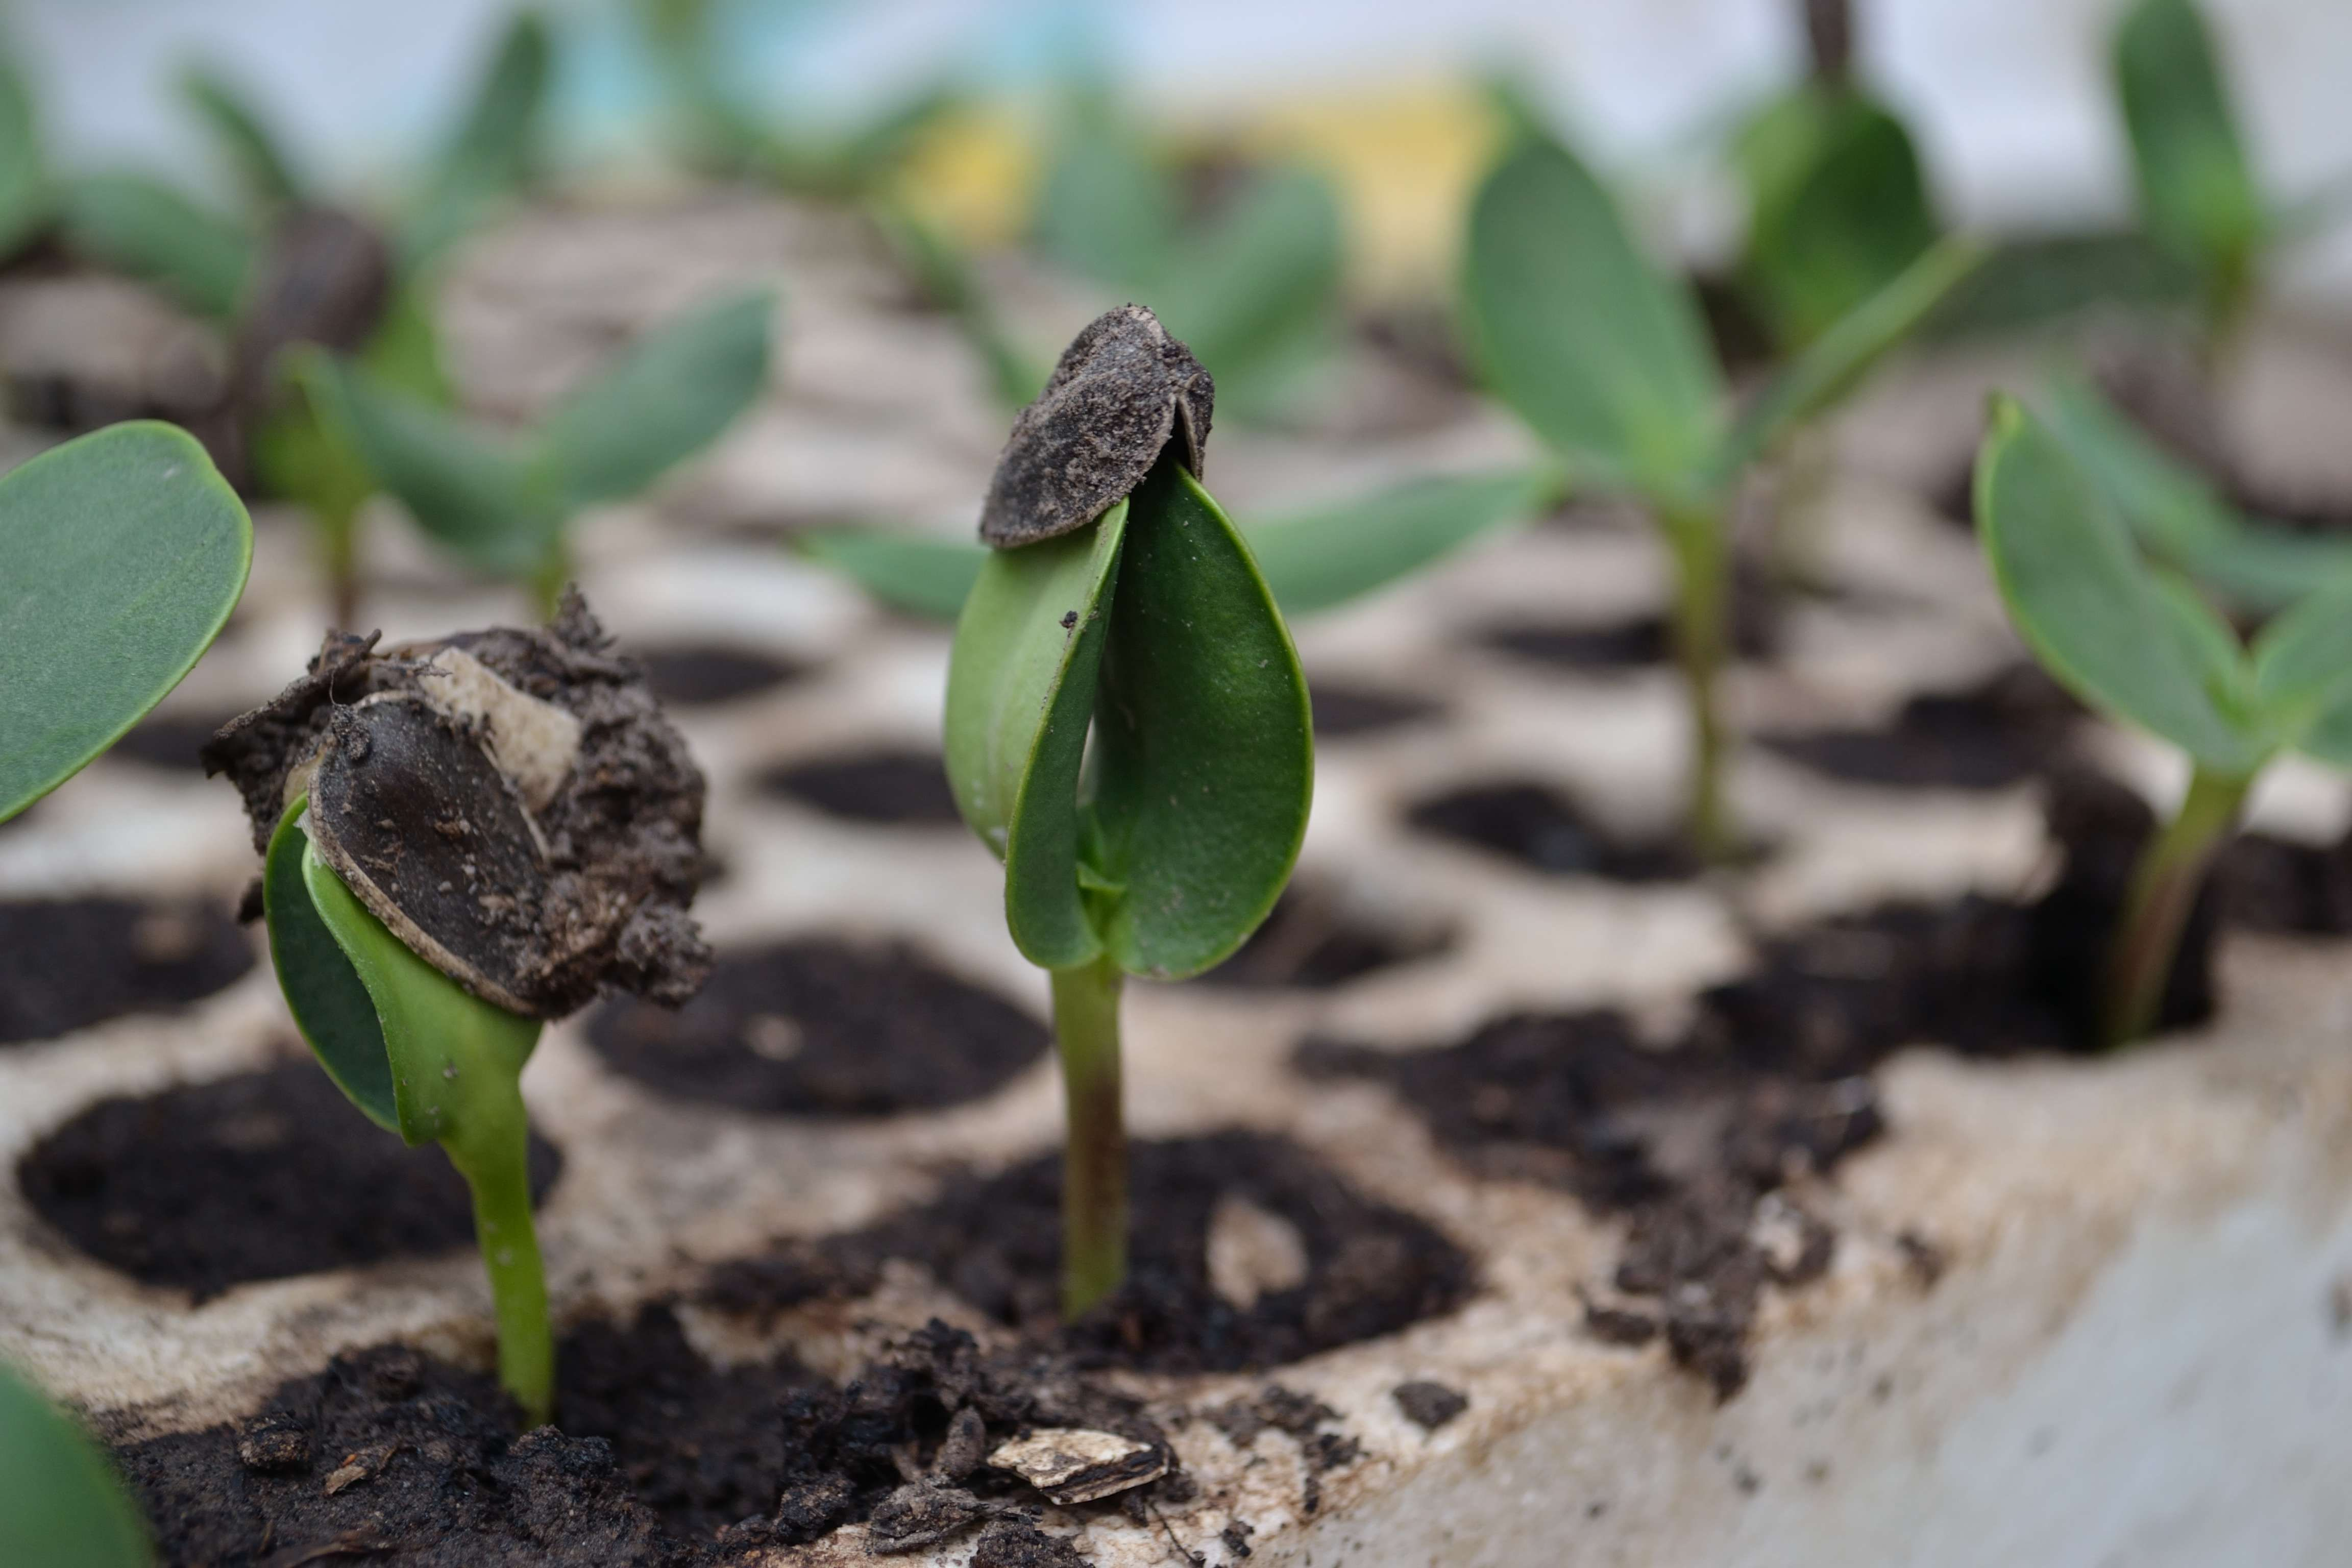girasol5-12dias: (875, 289, 1391, 1330), (203, 614, 724, 1438)
